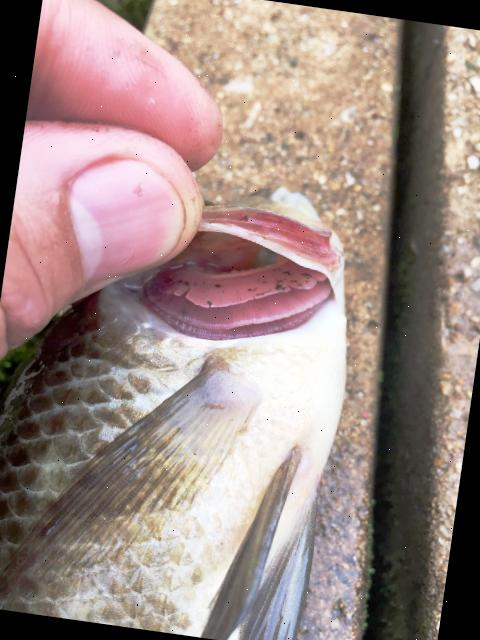Flavobacterium -Bacterial Gill Disease-: (0, 189, 346, 640), (0, 193, 346, 640), (0, 194, 346, 640), (0, 195, 346, 640), (203, 332, 206, 338)
